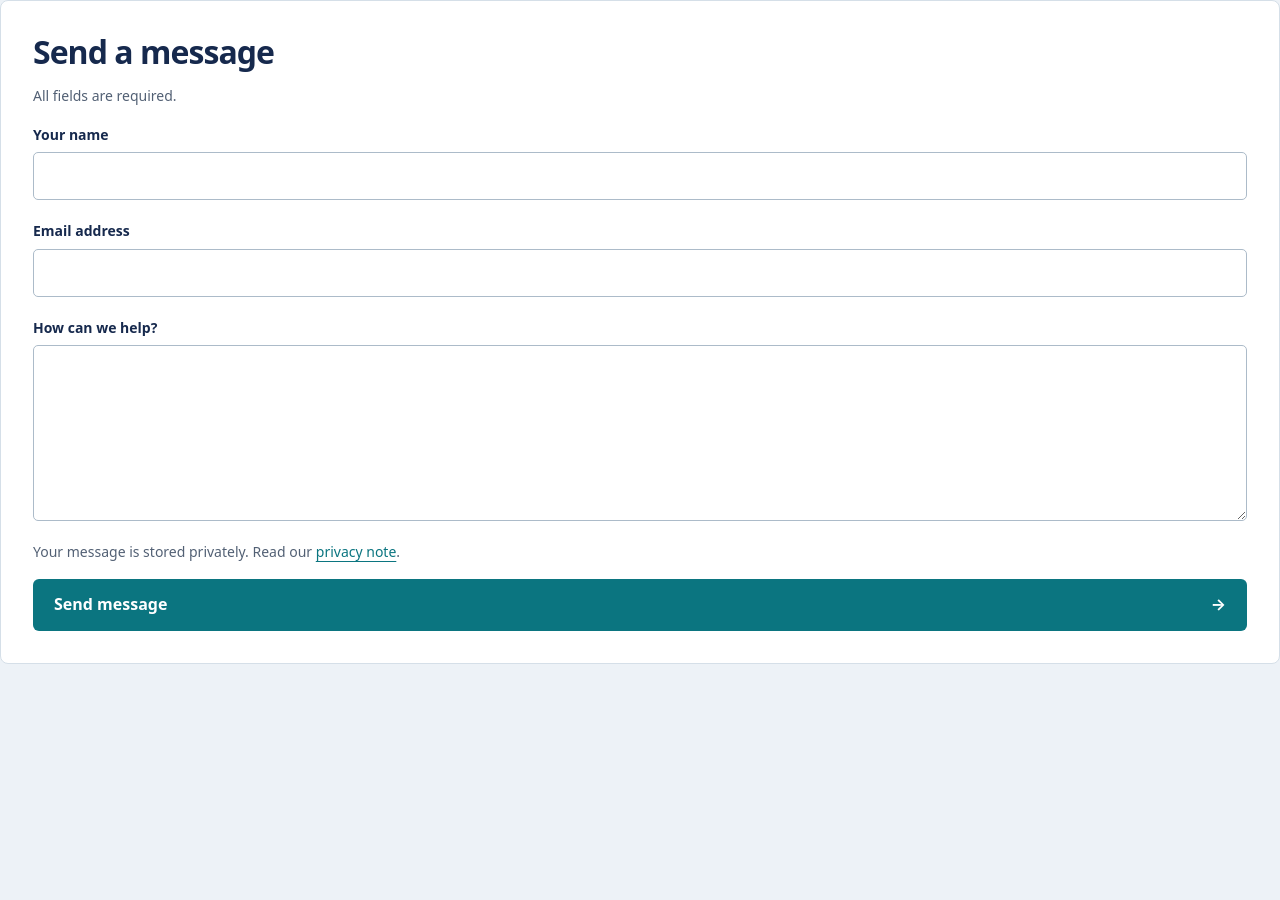
Contact submission › sends JSON once and announces a successful private save
Type "Example Visitor" into the field labelled "Your name".
click(640, 176); type("Example Visitor")  # box [33, 152, 1247, 200]
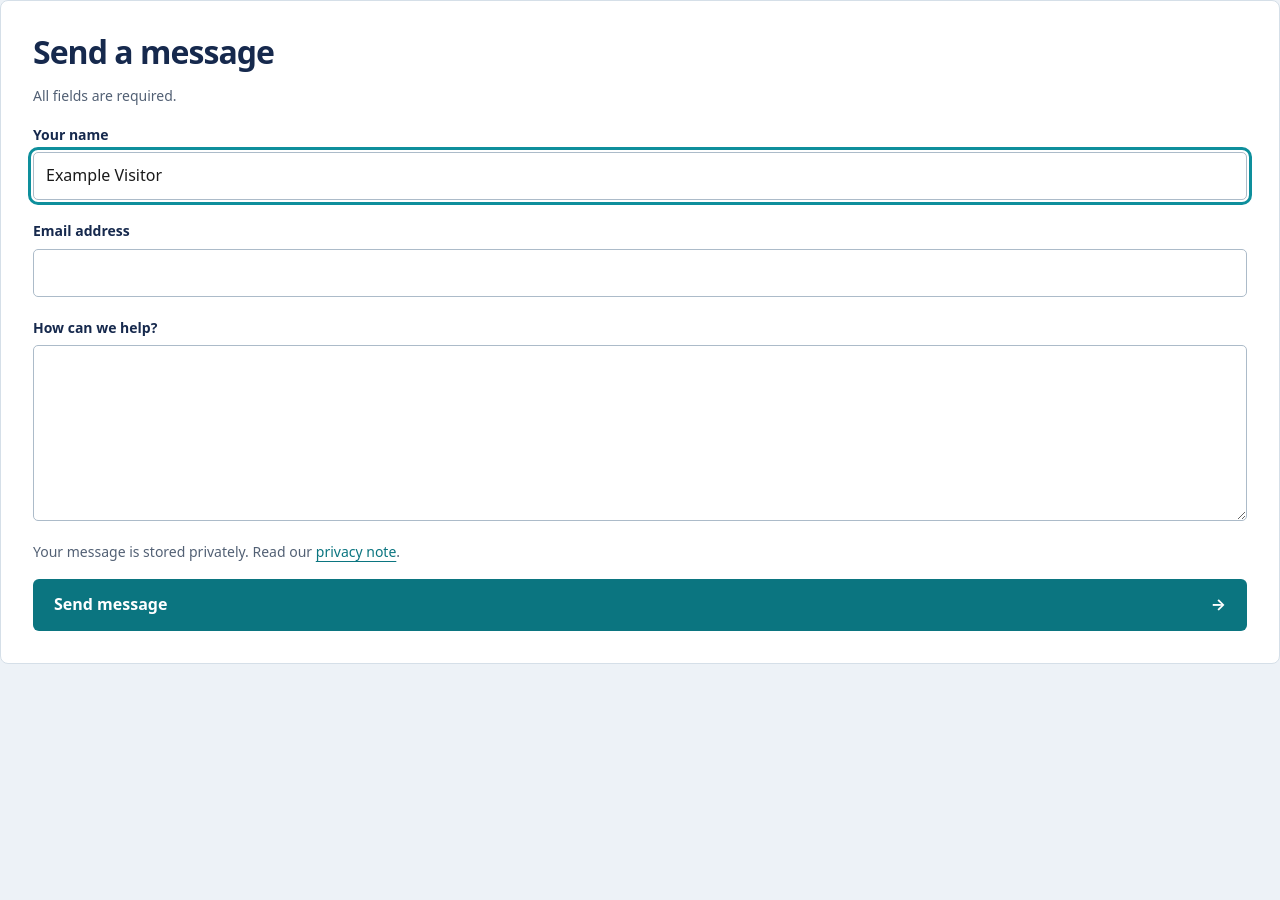
Type "visitor@example.test" into the field labelled "Email address".
click(640, 273); type("visitor@example.test")  # box [33, 249, 1247, 297]
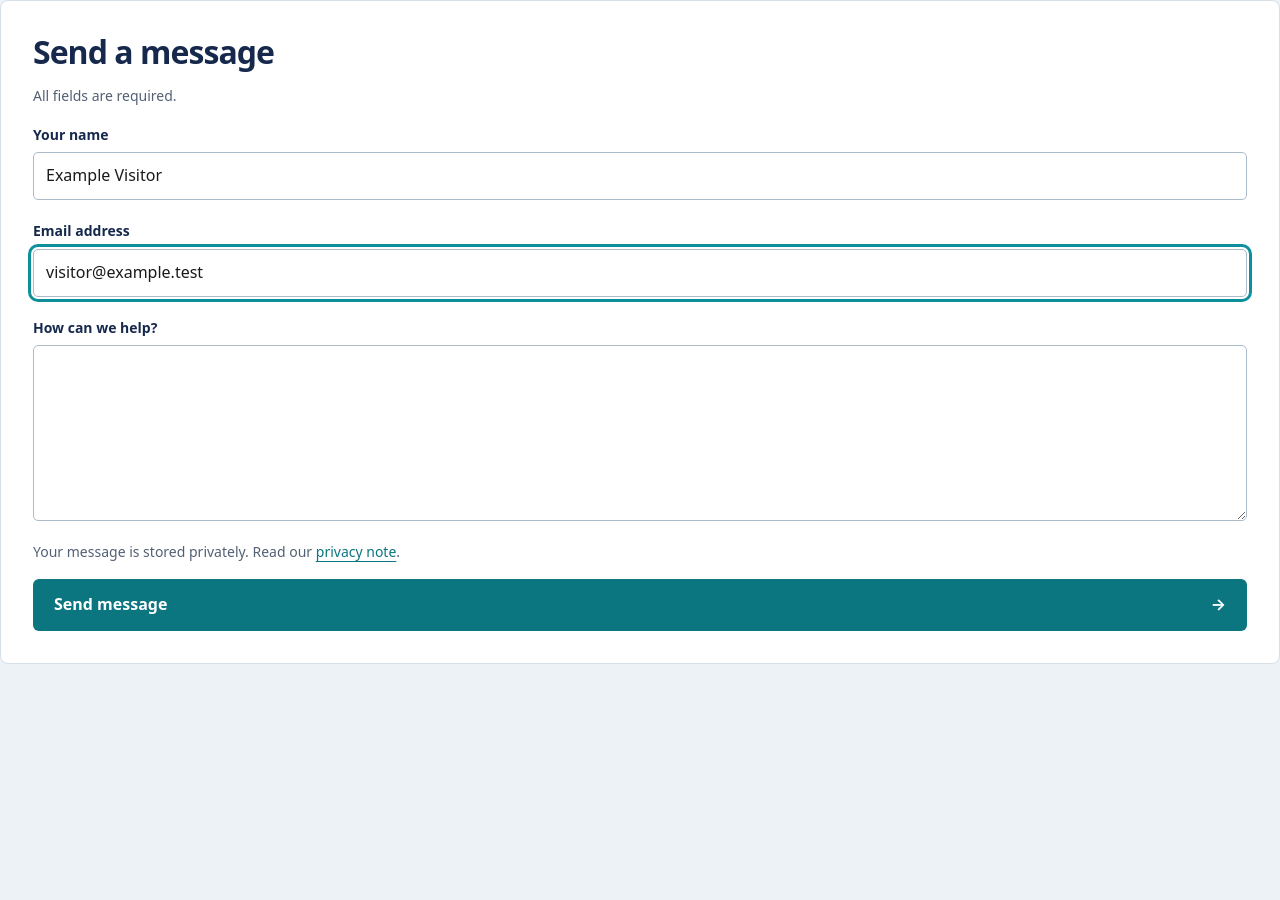
Type "A fictional message about community care." into the text box labelled "How can we help?".
click(640, 433); type("A fictional message about community care.")  # box [33, 345, 1247, 521]
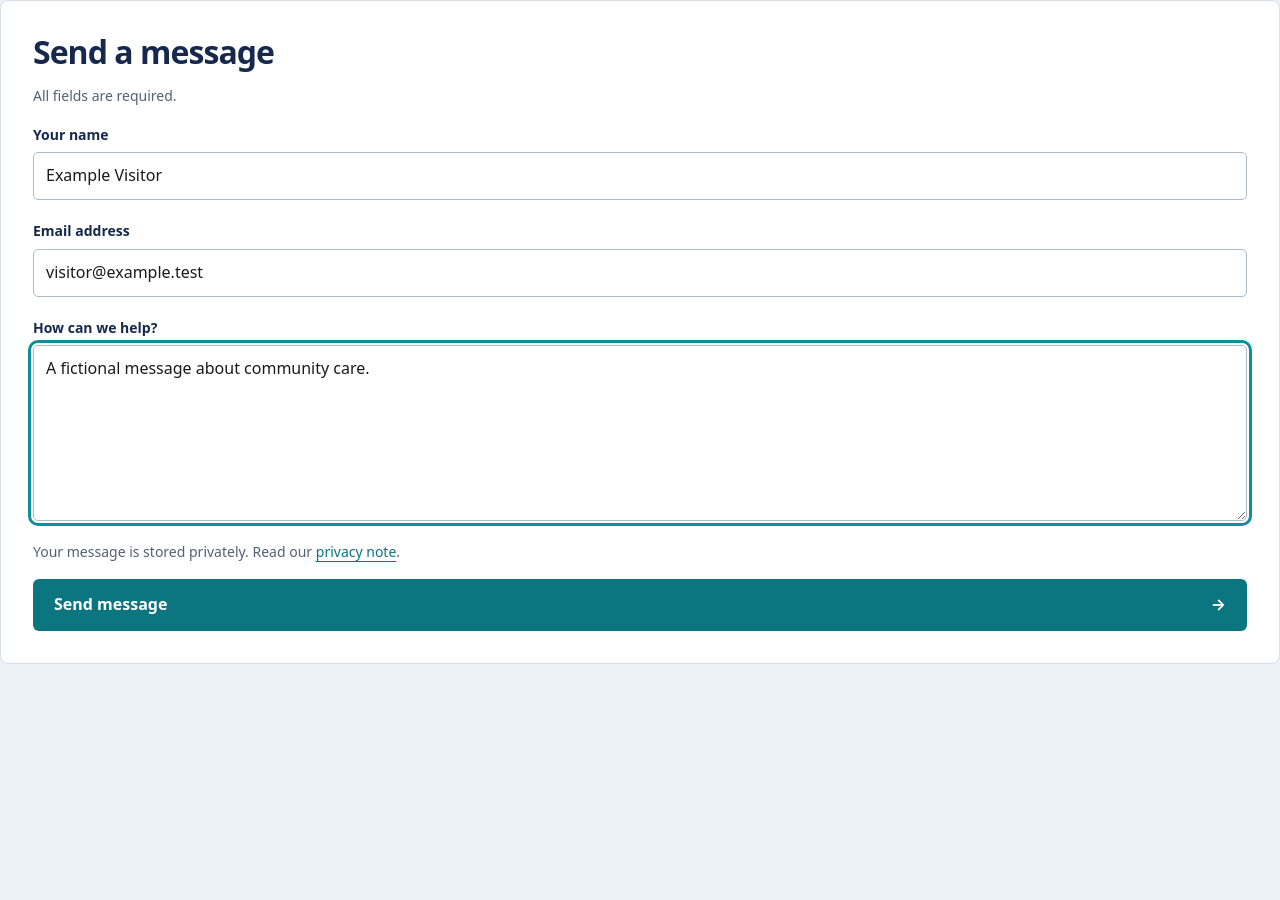
Click the button "Send message →".
click(111, 604)  # box [33, 579, 1247, 630]
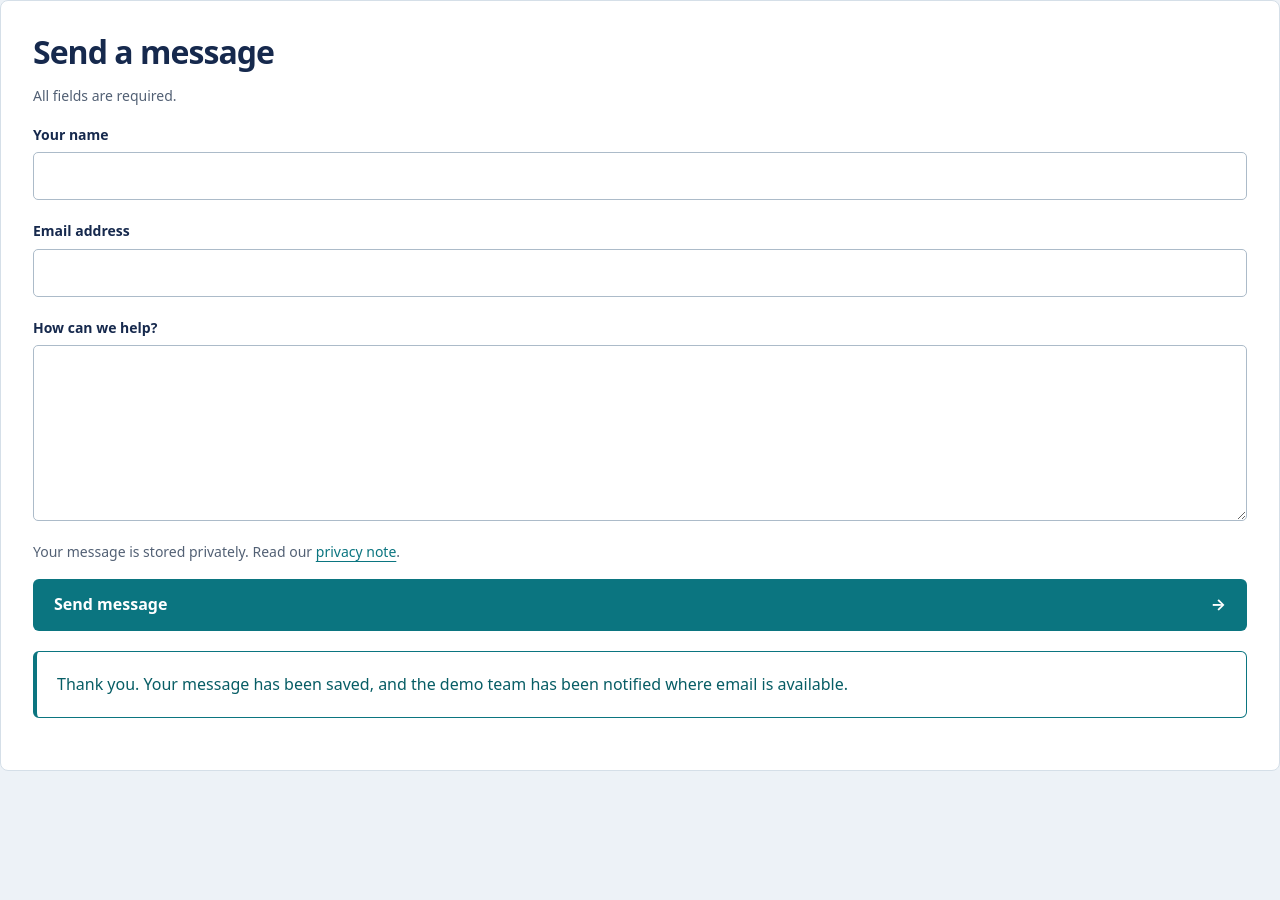
Expected: the message shows "Your message has been saved", [57, 672, 848, 694]
Expected: the field labelled "Your name" is empty, [33, 152, 1247, 200]
